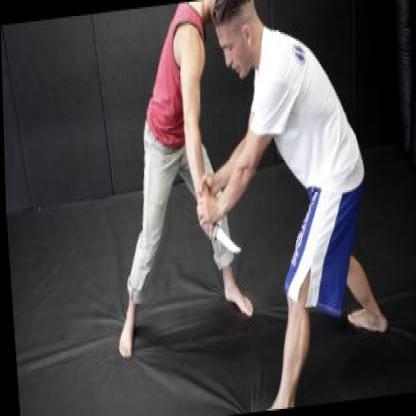knife: (194, 215, 242, 260)
